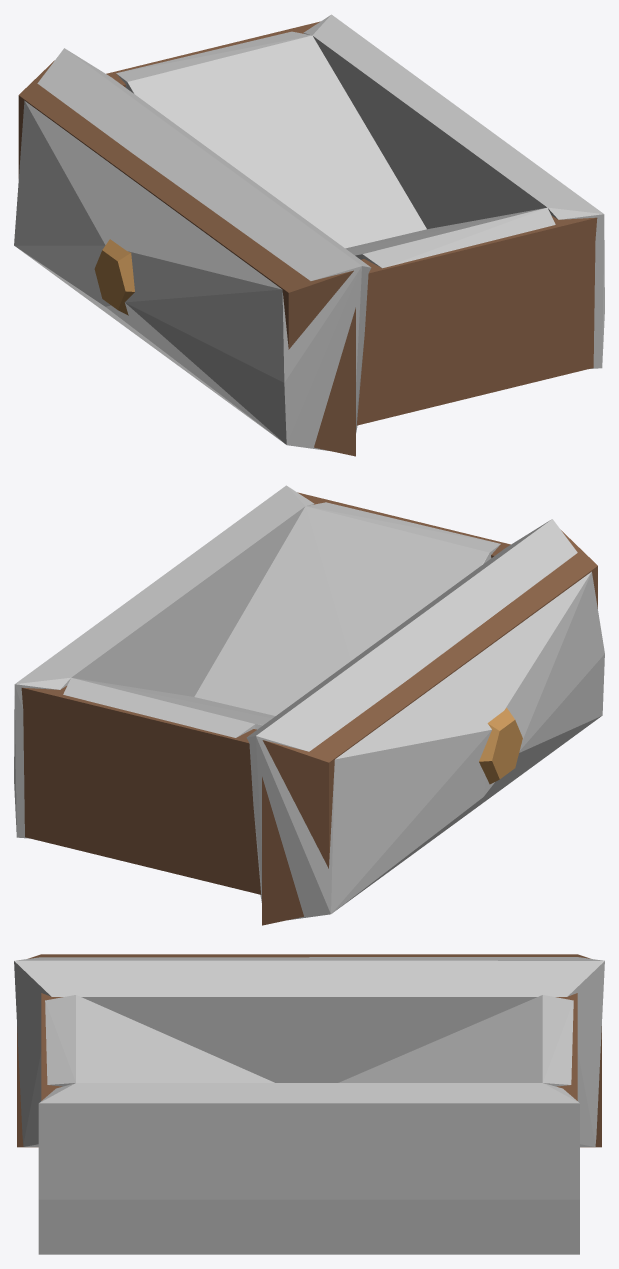
File: SM_Prop_Cabinet_01_Drawer_l_01.fbx
3 views of the same model, one above another, from view 1: azimuth 30°, elevation 25°; view 2: azimuth 150°, elevation 25°; view 3: azimuth 270°, elevation 25° (orthographic).
Visible parts, largest first — view 1: SM_Prop_Cabinet_01_Drawer_l_01_ConvexHulls, SM_Prop_Cabinet_01_Drawer_l_01; view 2: SM_Prop_Cabinet_01_Drawer_l_01_ConvexHulls, SM_Prop_Cabinet_01_Drawer_l_01; view 3: SM_Prop_Cabinet_01_Drawer_l_01_ConvexHulls, SM_Prop_Cabinet_01_Drawer_l_01.
Part boxes in pixels (bbox=[...]): SM_Prop_Cabinet_01_Drawer_l_01_ConvexHulls: bbox=[14, 14, 604, 451]; SM_Prop_Cabinet_01_Drawer_l_01: bbox=[18, 21, 597, 456]; SM_Prop_Cabinet_01_Drawer_l_01_ConvexHulls: bbox=[14, 485, 604, 920]; SM_Prop_Cabinet_01_Drawer_l_01: bbox=[21, 492, 597, 925]; SM_Prop_Cabinet_01_Drawer_l_01_ConvexHulls: bbox=[14, 957, 604, 1254]; SM_Prop_Cabinet_01_Drawer_l_01: bbox=[17, 954, 601, 1147].
Bounding box in the file's own units: 24.47 × 35.18 × 12.41.
2 materials, 1 textured.
